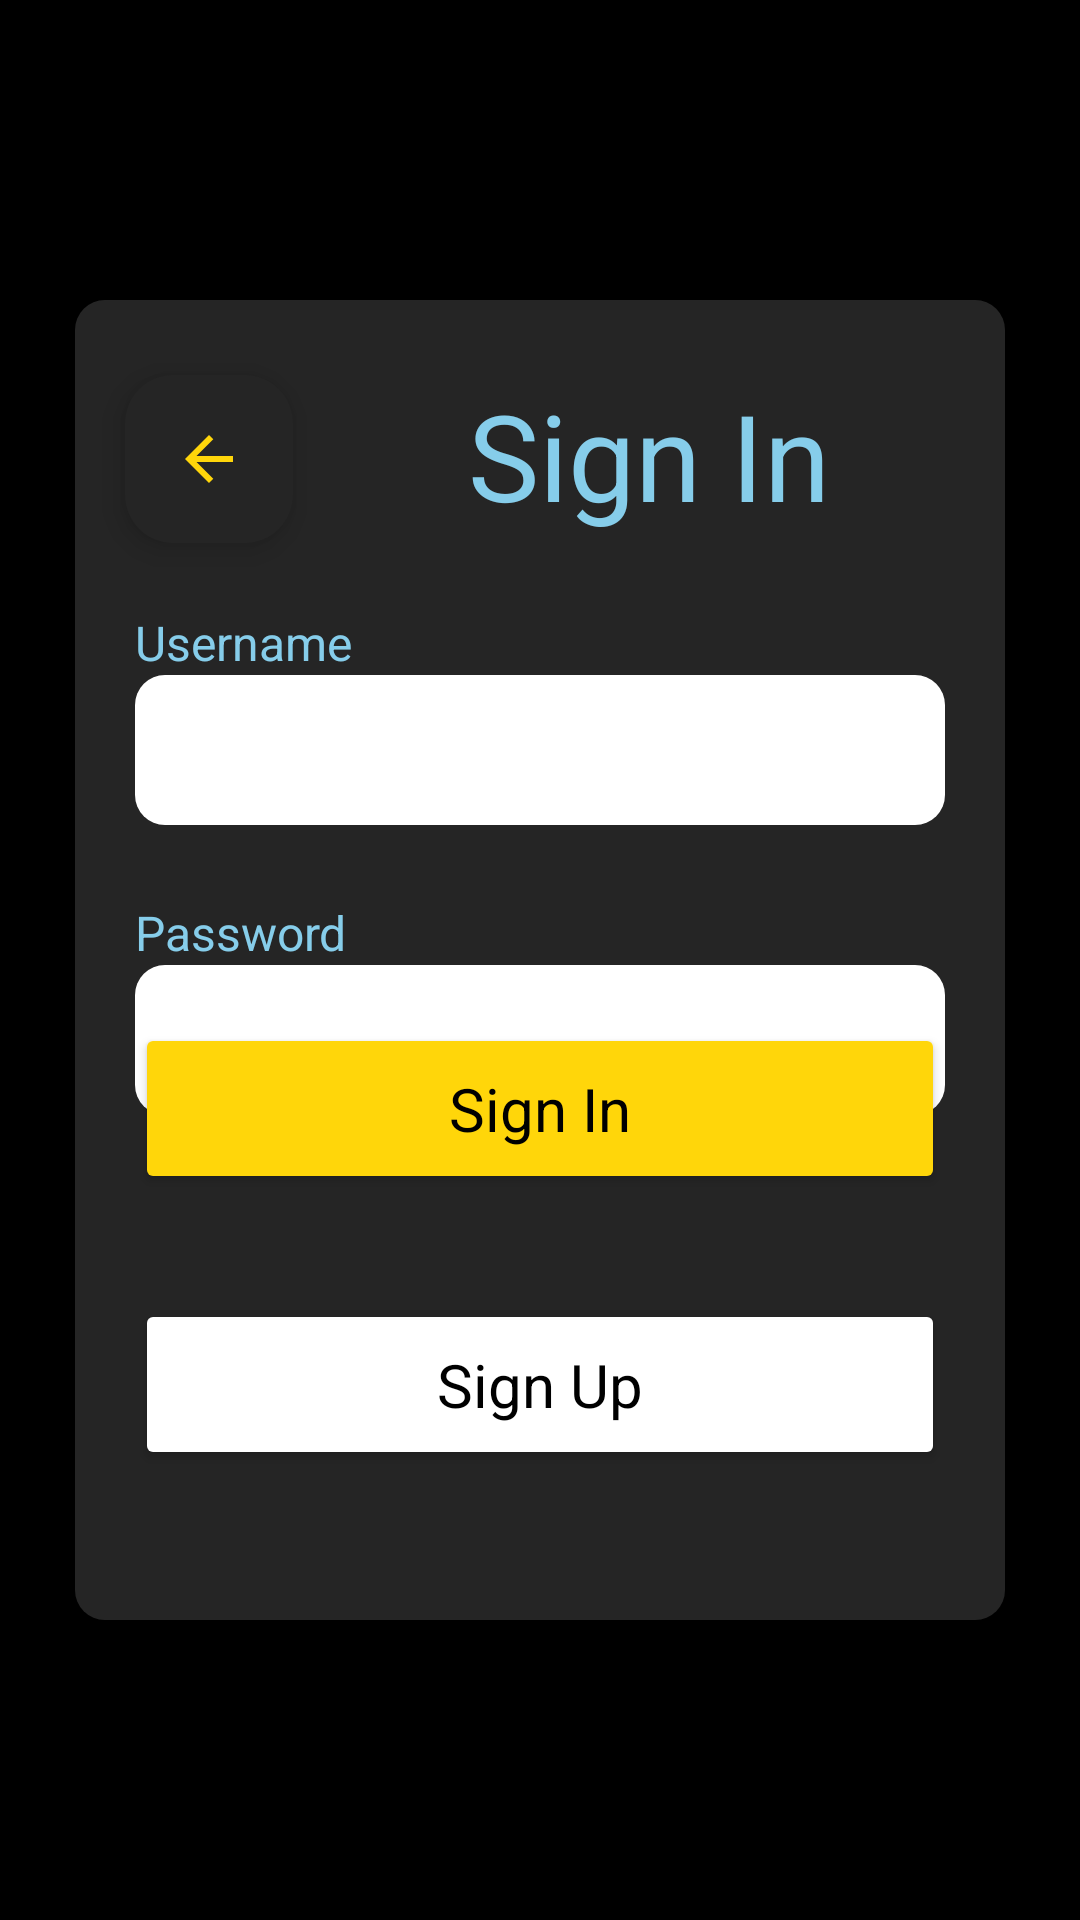

Where to tap for icons on this 1080px x 1920px app screen, as (x=x, y=y):
arrow back: (x=209, y=459)
